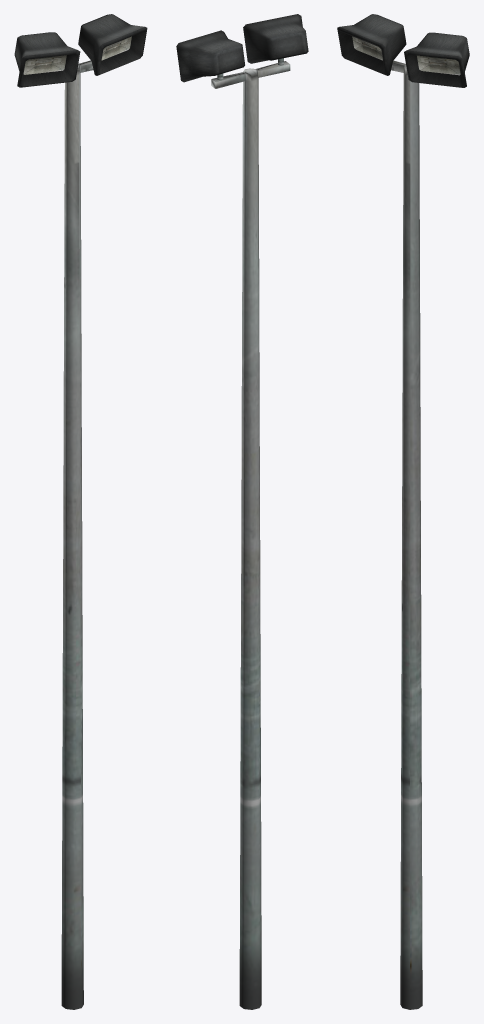
The model's file is PFB-Racing-Track-Assets-01-Lamp-Double.fbx.
3 renders of one model, left to right at view 1: azimuth 30°, elevation 25°; view 2: azimuth 210°, elevation 25°; view 3: azimuth 330°, elevation 25°, orthographic.
Visible parts, largest first — view 1: lamp_double_light; view 2: lamp_double_light; view 3: lamp_double_light.
Part boxes in pixels (x1,y1,x2,y2): lamp_double_light: [14, 14, 147, 1009]; lamp_double_light: [176, 14, 308, 1009]; lamp_double_light: [337, 14, 469, 1009].
Bounding box in the file's own units: 13.43 × 99.68 × 5.41.
